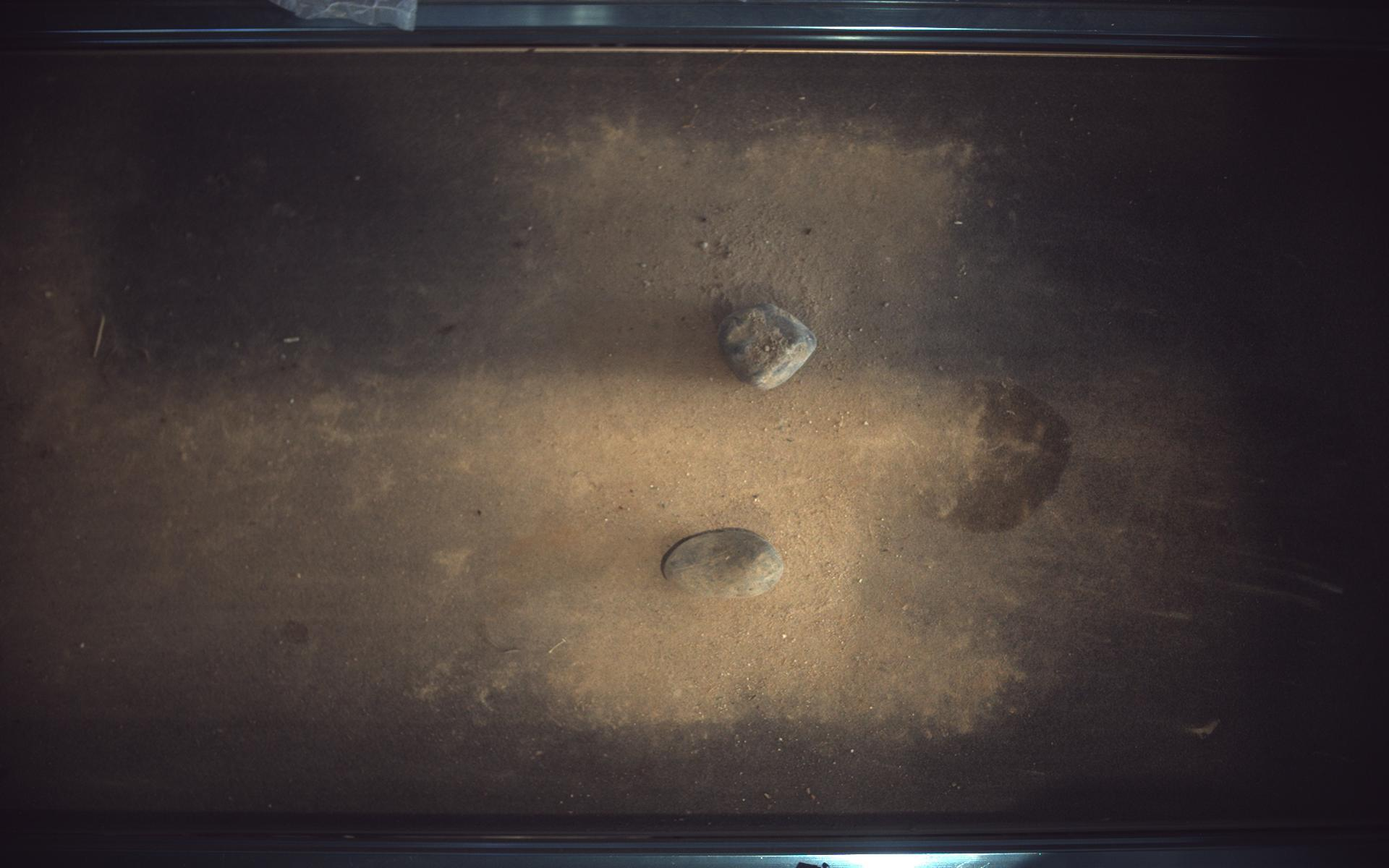stone: (719, 302, 818, 390), (663, 529, 785, 599)
